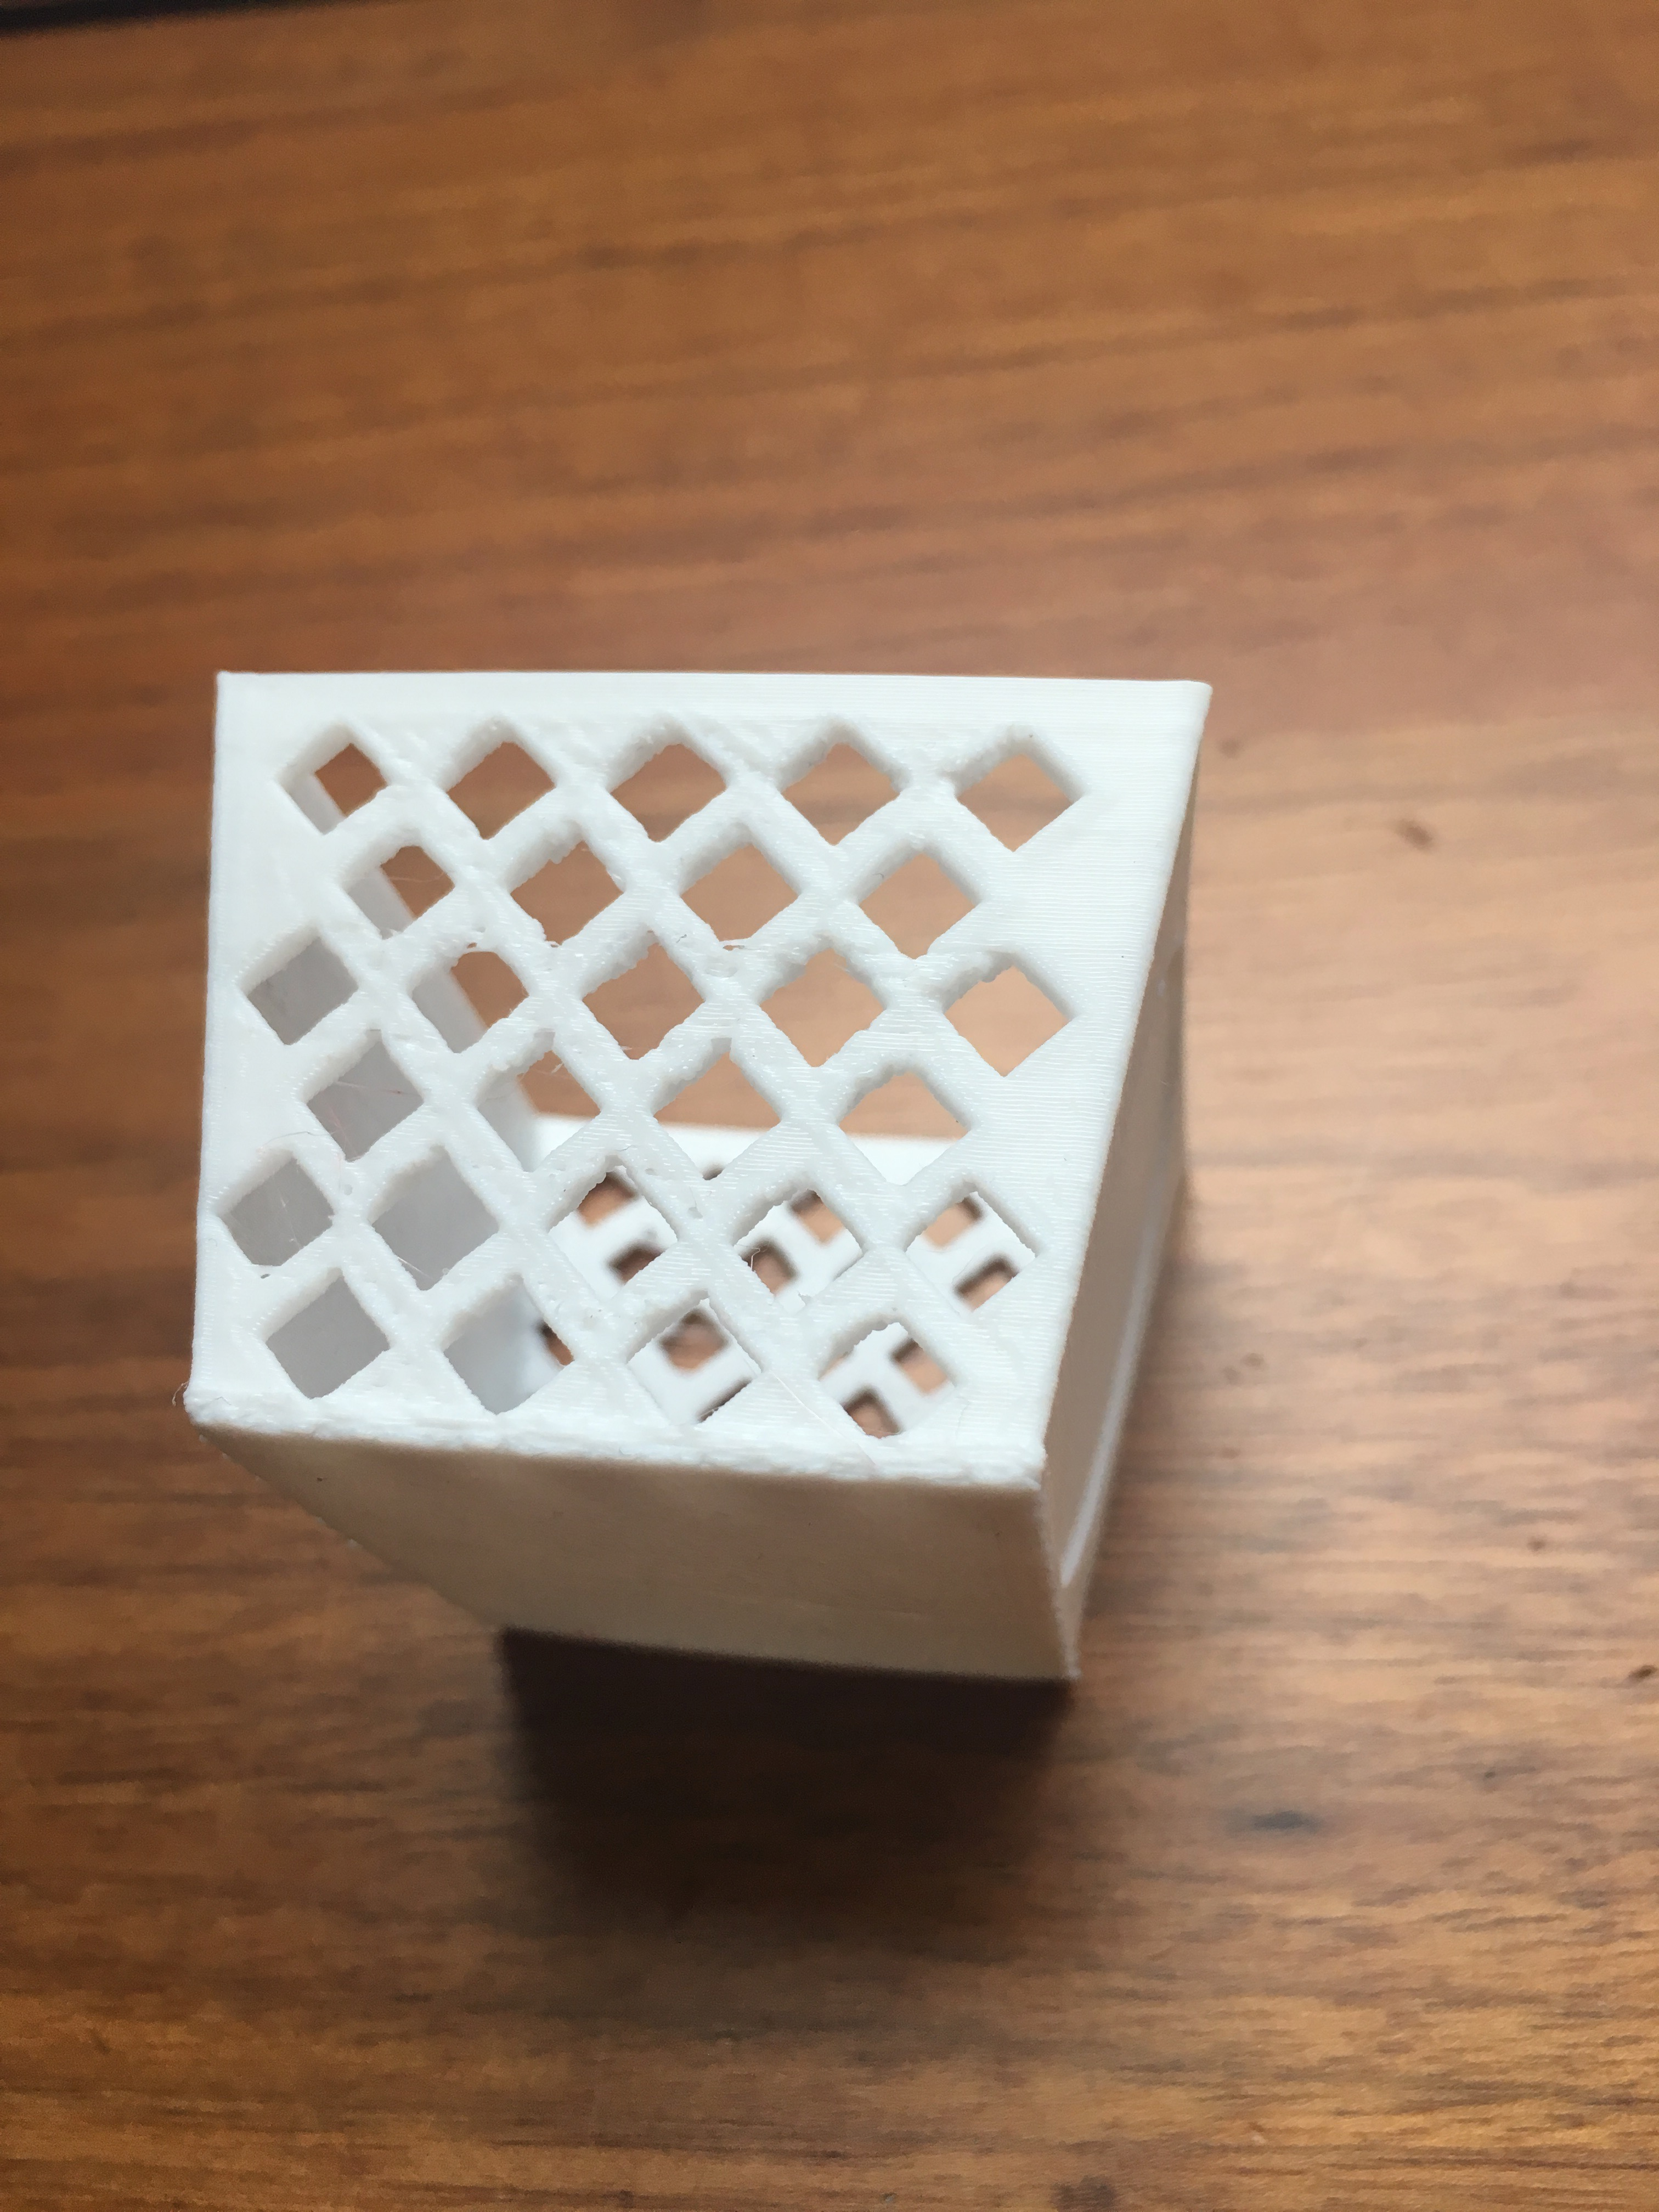3dpstringing: (704, 904, 770, 979), (444, 920, 525, 972), (234, 1251, 296, 1298)
3dpunderextrusion: (868, 925, 1047, 1010), (688, 702, 795, 801), (525, 704, 631, 798), (629, 1151, 727, 1244), (666, 1008, 775, 1075), (903, 738, 1004, 805), (509, 1007, 603, 1076), (376, 1012, 451, 1089), (554, 1287, 617, 1353), (326, 1158, 378, 1214)
